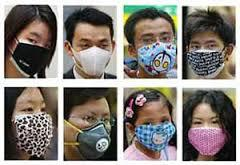OK: (8, 96, 54, 158), (66, 110, 113, 161), (17, 31, 56, 76), (187, 114, 228, 156), (138, 31, 177, 75), (76, 34, 113, 76), (137, 113, 175, 153), (190, 38, 227, 76)
